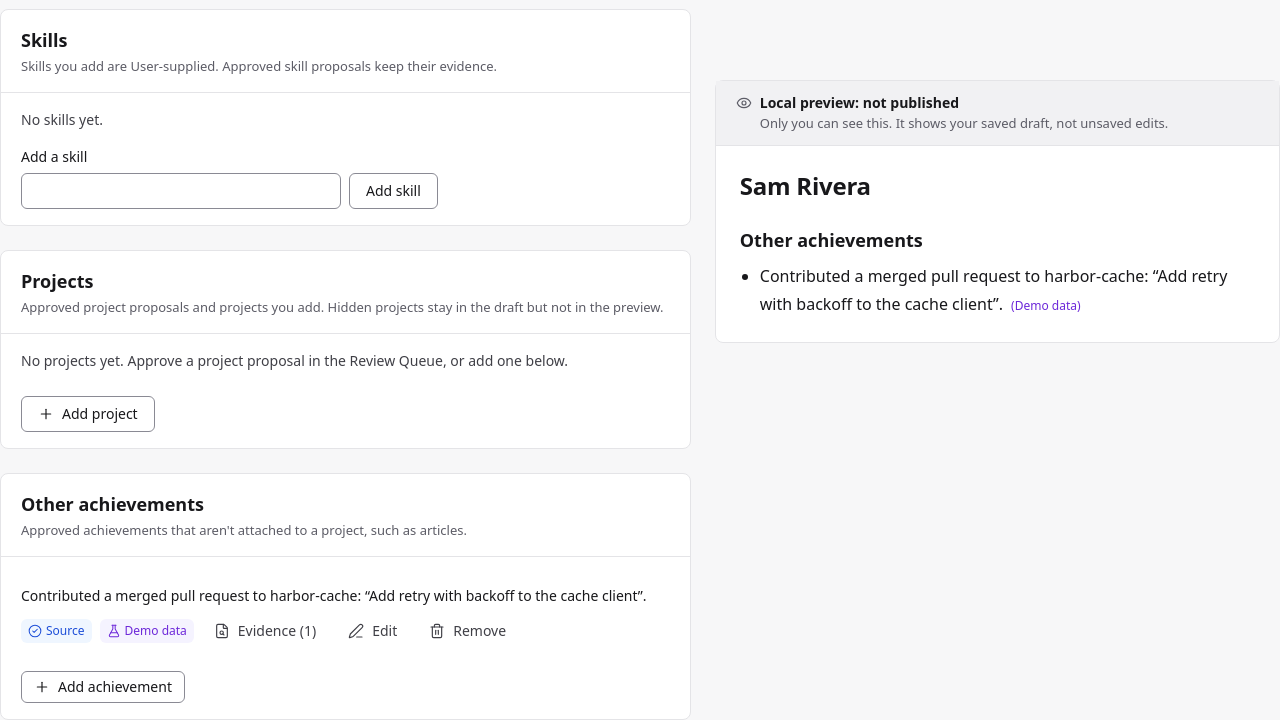
PortfolioEditor (T6.1–T6.6) › lists a claim's evidence with its source
The width and height of the screenshot is (1280, 720).
(page scrolled)
Click the button "Evidence (1)": (265, 631) [202,615,328,647]
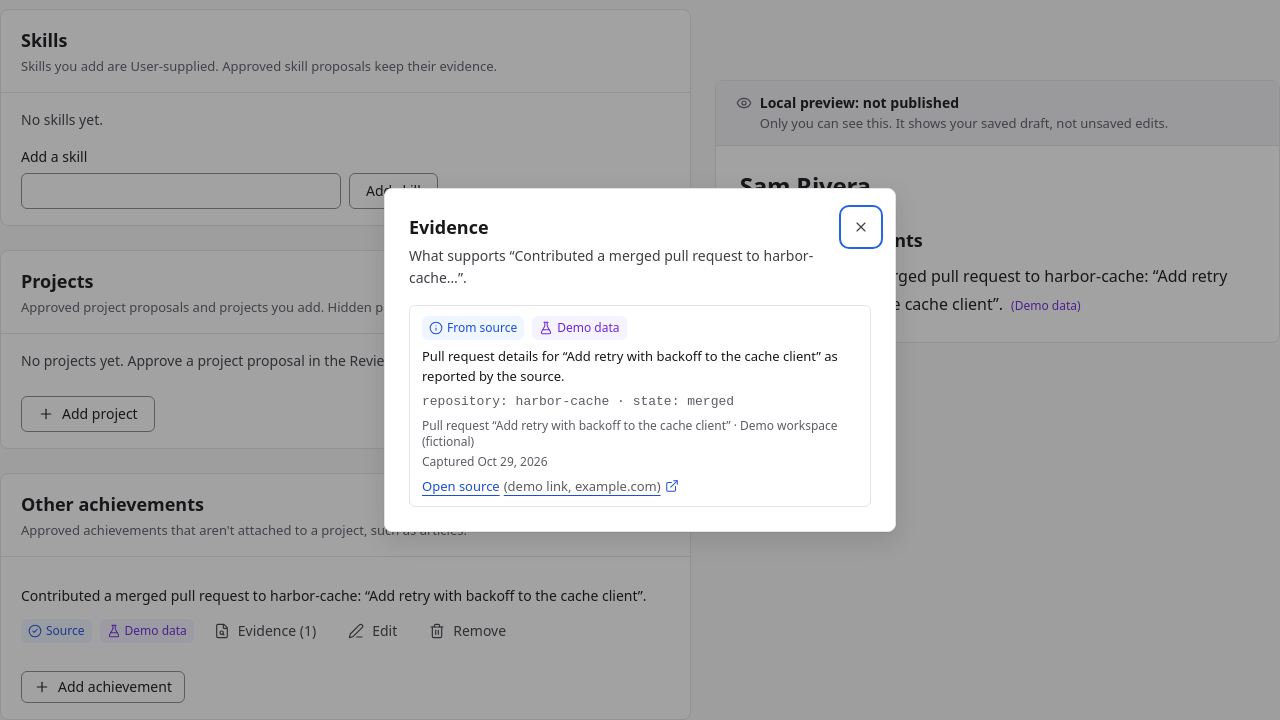
Expected: the text "From source" is shown, [422,316,524,340]
